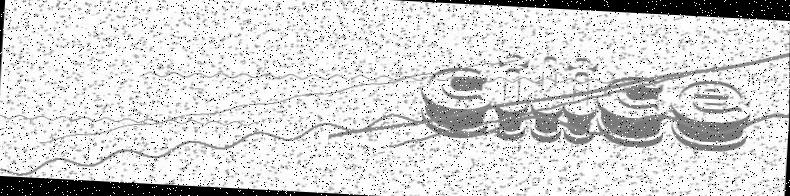c: (417, 62, 494, 140), (594, 73, 667, 151)
e: (667, 77, 752, 155)
i: (561, 53, 600, 146), (492, 52, 532, 142)
l: (528, 52, 565, 145)
